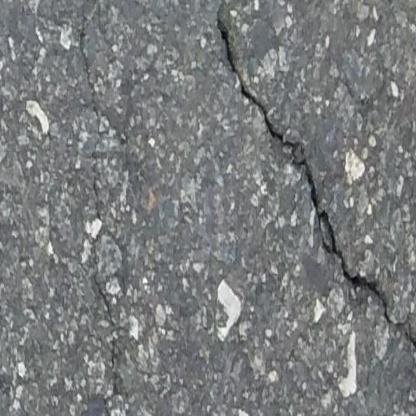Cracks: (206, 0, 416, 365), (358, 310, 373, 323)
